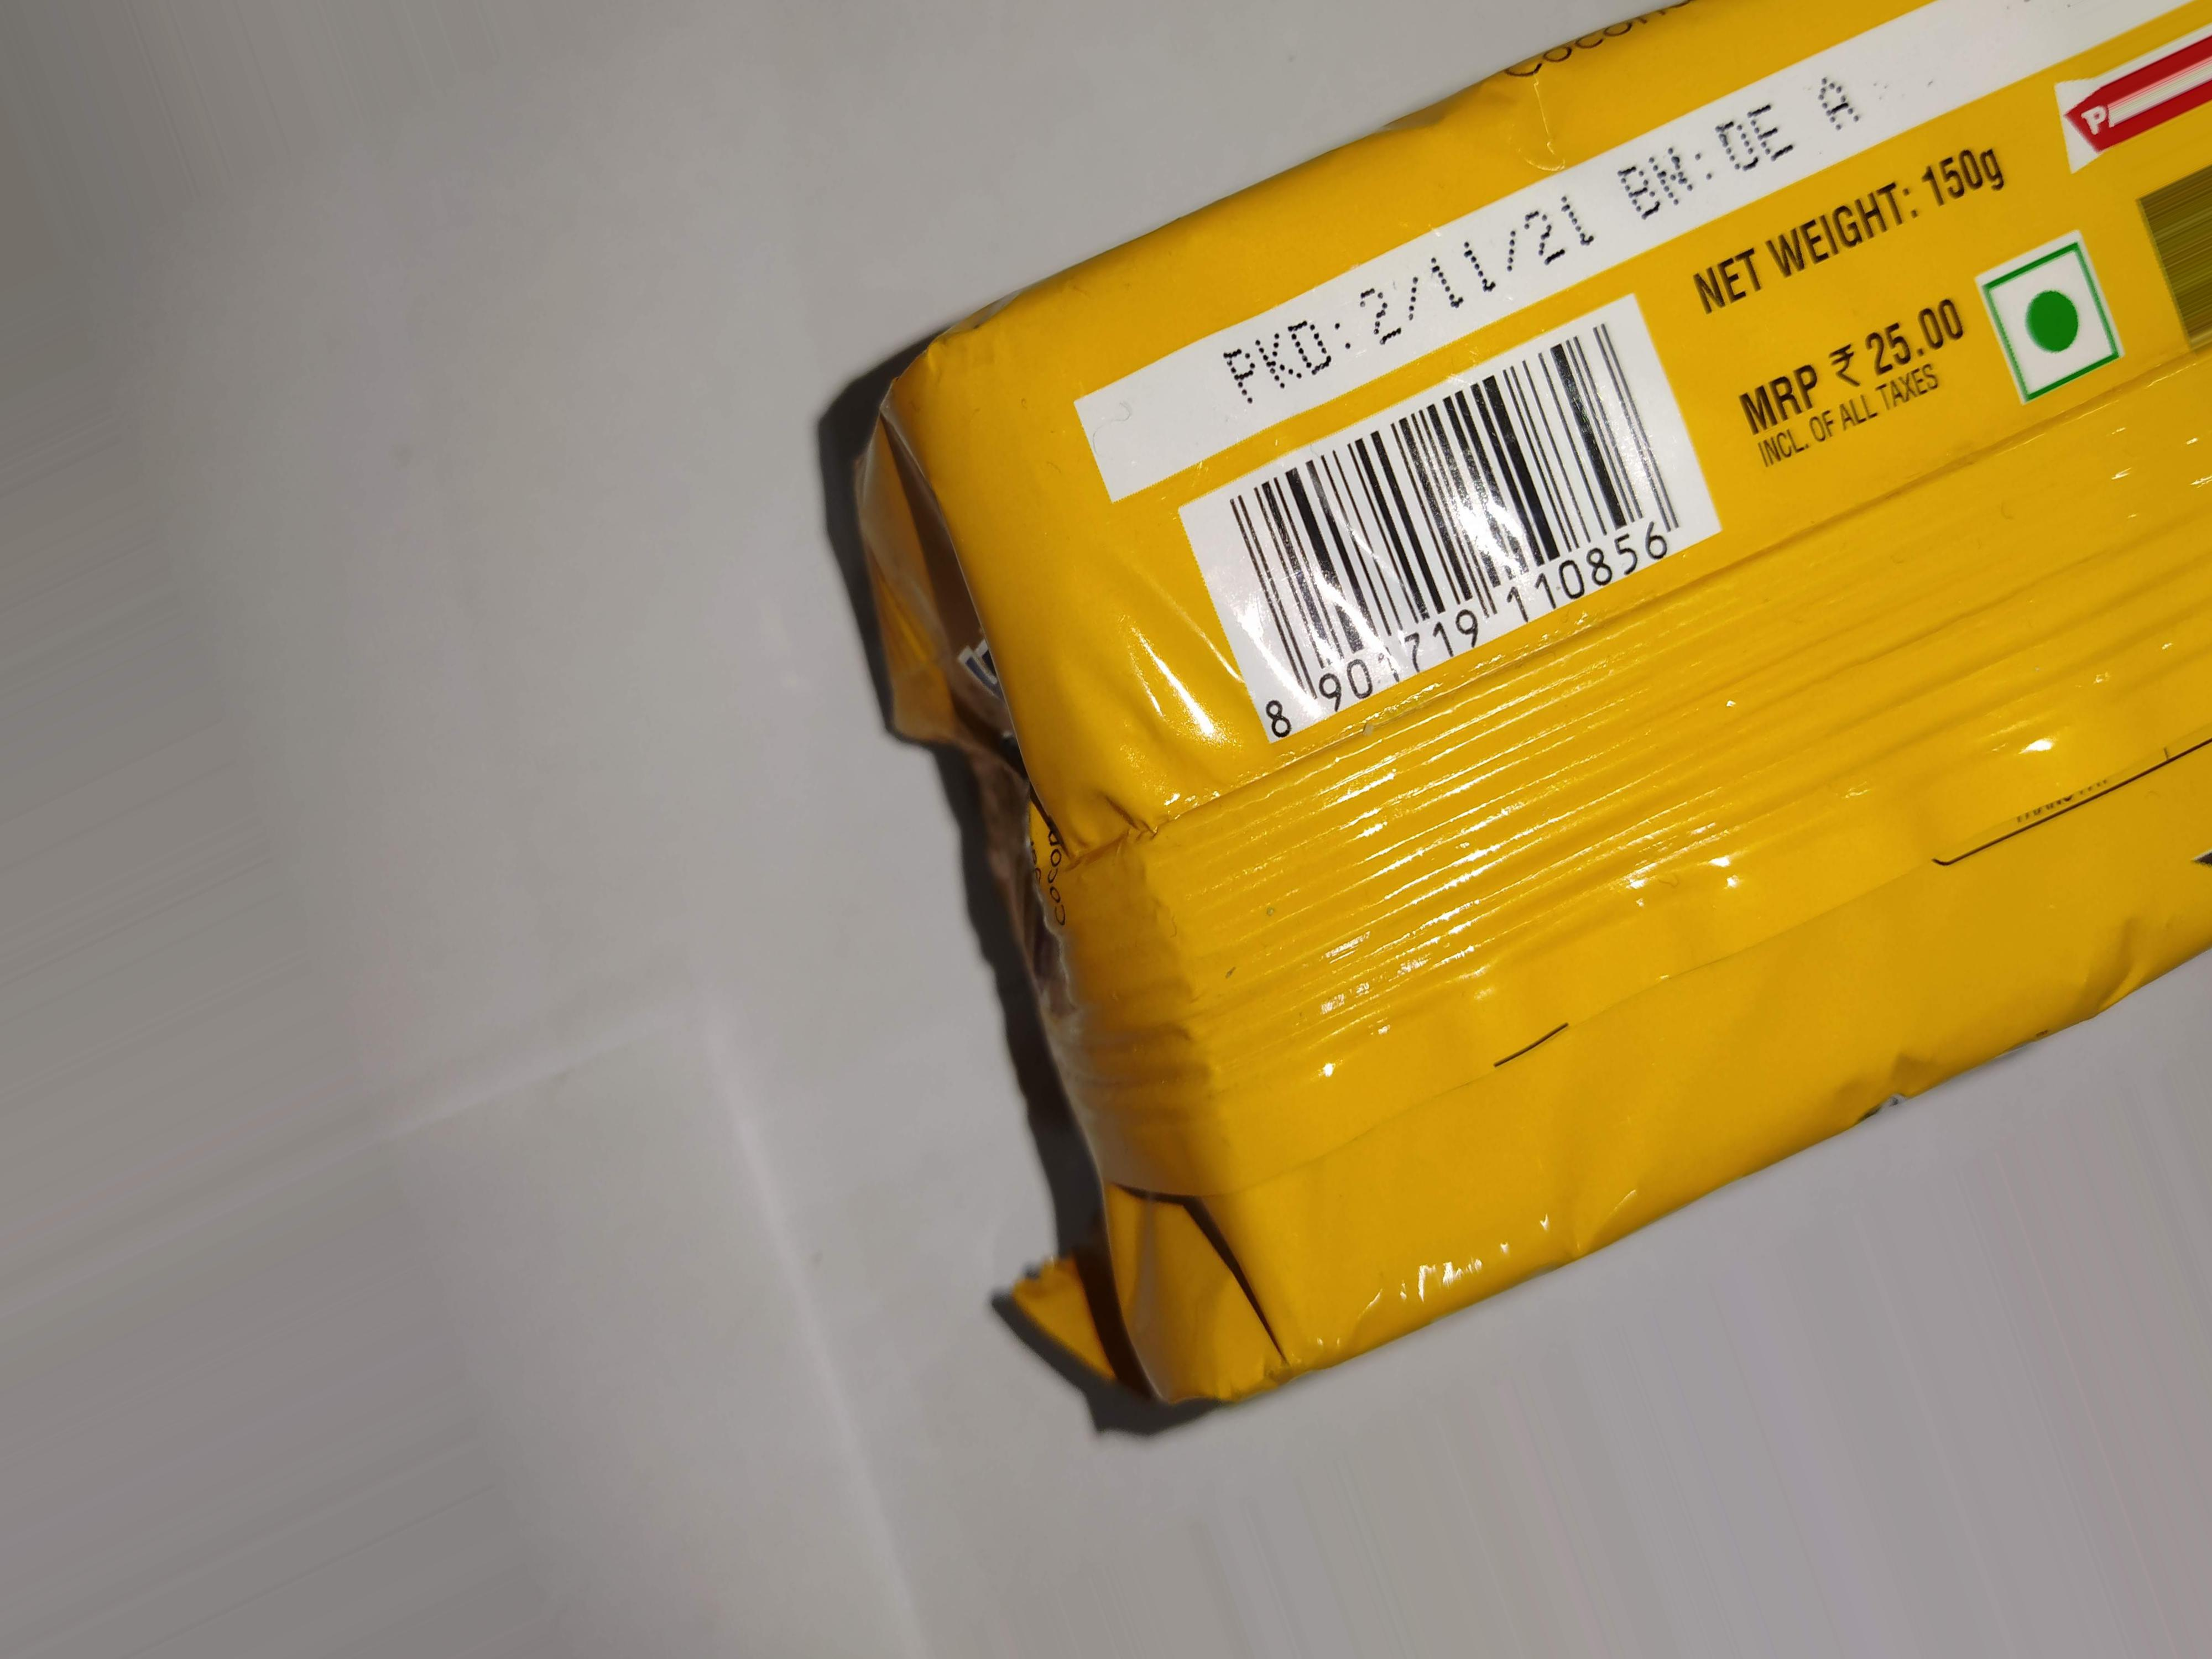Bar_code: (1190, 303, 1742, 756)
Item: (820, 0, 2189, 1459)
